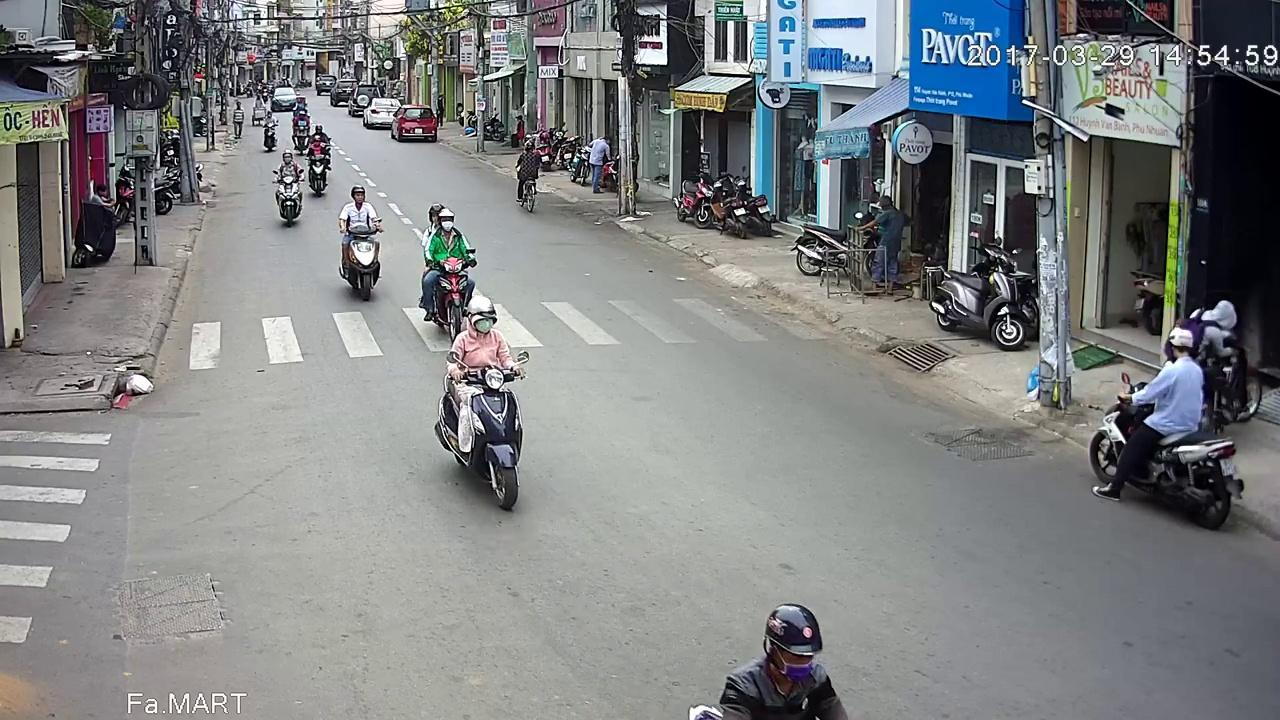xe dap: (515, 140, 546, 215)
xe hoi: (391, 102, 438, 142)
xe may: (1083, 330, 1235, 542), (438, 297, 535, 512), (416, 200, 480, 343), (332, 182, 378, 300), (270, 152, 303, 230), (306, 137, 330, 199), (291, 102, 311, 148), (262, 113, 280, 155)
